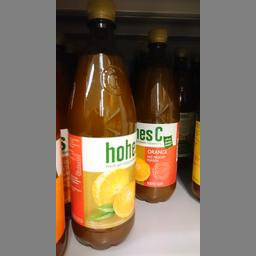juice: (69, 0, 136, 248), (134, 28, 180, 202)
